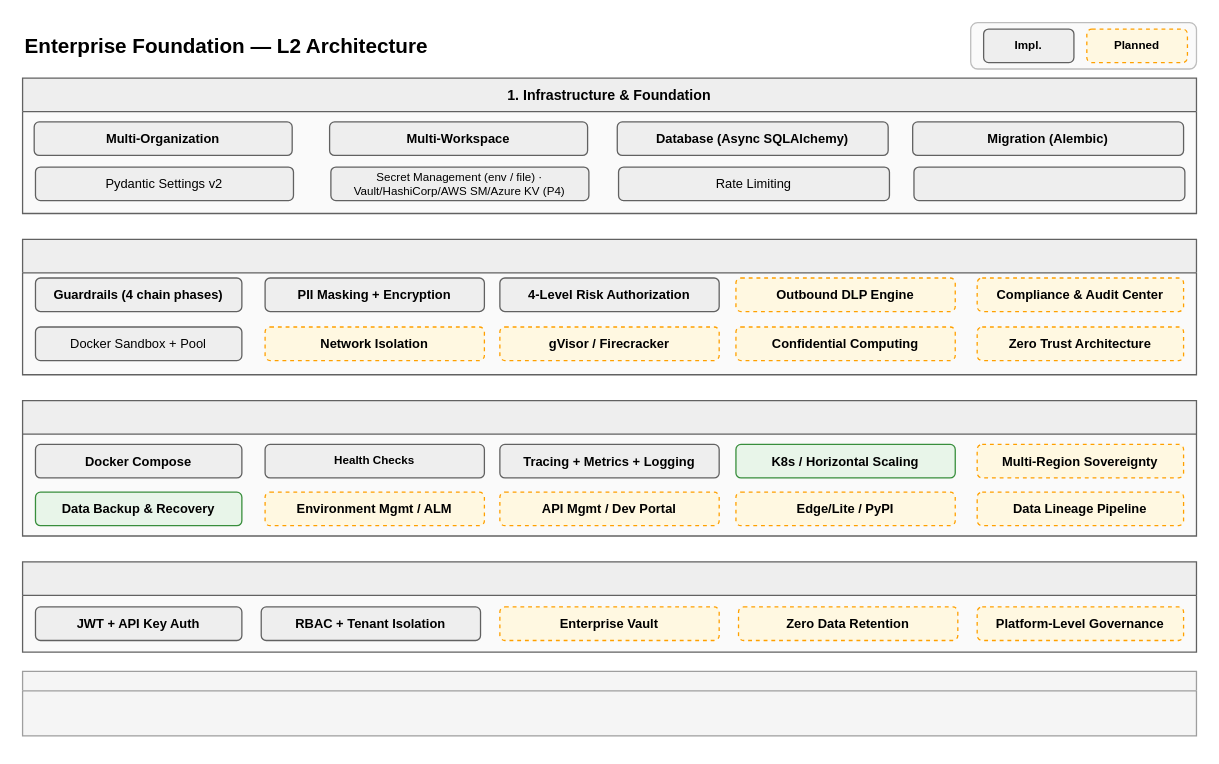
Some shapes in this 1219 by 764 pixel diagram are drawn without their labels. The shapes that lost their labels are listed below. From the top down, each one's box as (x1, y1, x2, y2) in pixels, then its label:
(913, 166, 1185, 201): Async Task Scheduling
(21, 238, 1196, 375): 2. Security & Compliance
(21, 399, 1196, 536): 3. Operations & Deployment
(21, 561, 1196, 652): 4. Enterprise Identity & Governance
(21, 670, 1196, 736): To All Service Layers — Infrastructure Foundation & Multi-Tenant Context
